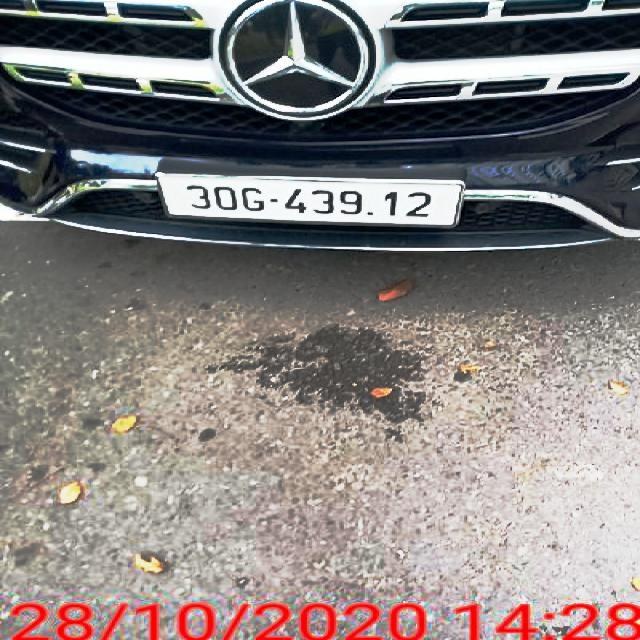license_plate: (159, 175, 461, 226)
